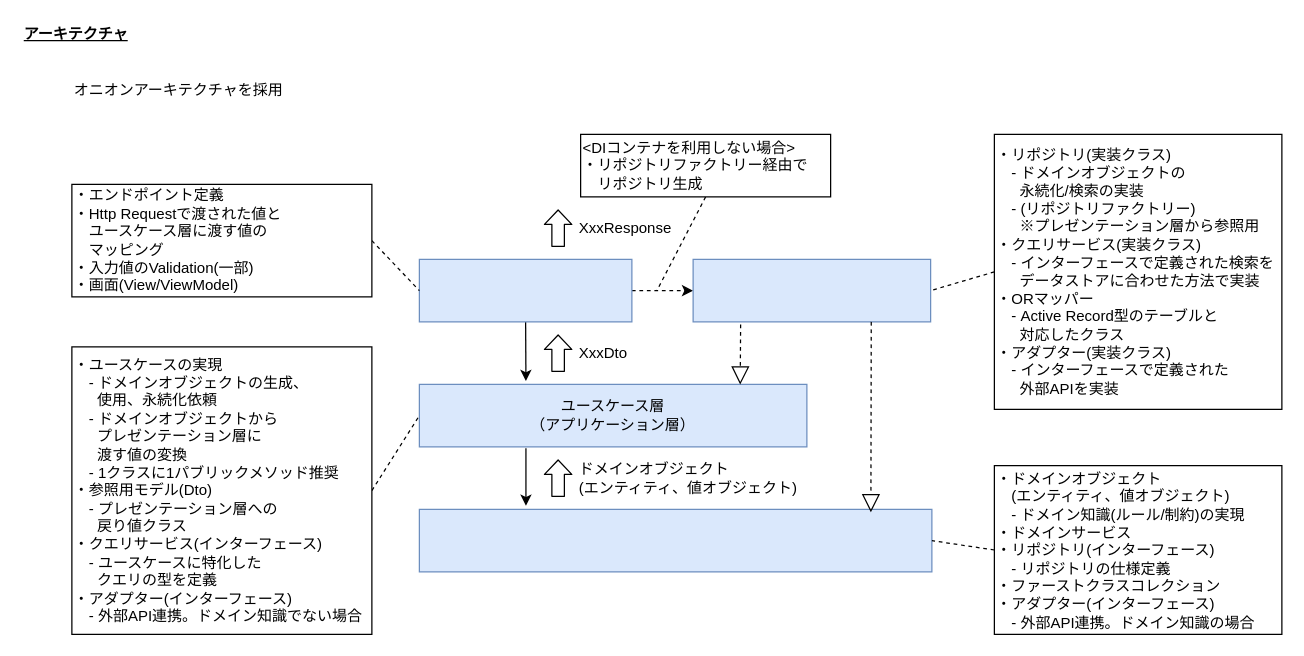
Image size: 1304x656. Some labels were removed from this diagram. Here are the shapes that lost their labels. From the top down, the centre of each, then its label:
At (525,290): "プレゼンテーション層 （UI層）".
At (811,290): "インフラ層".
At (675,540): "ドメイン層".
